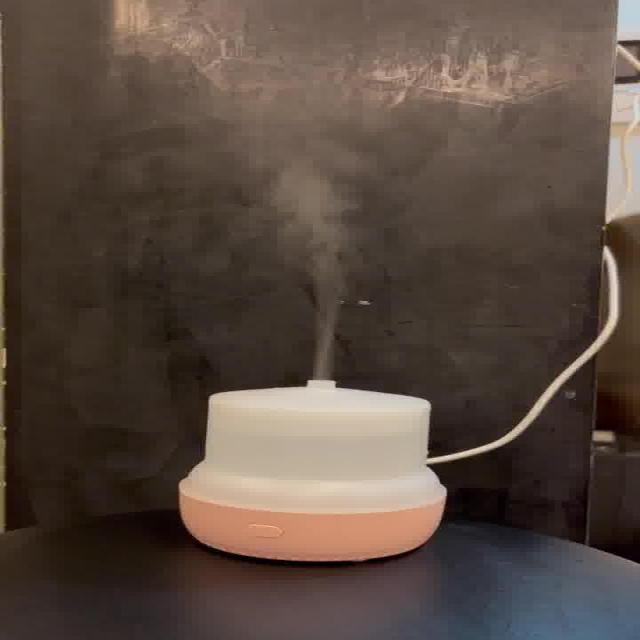fire: (222, 121, 404, 375)
